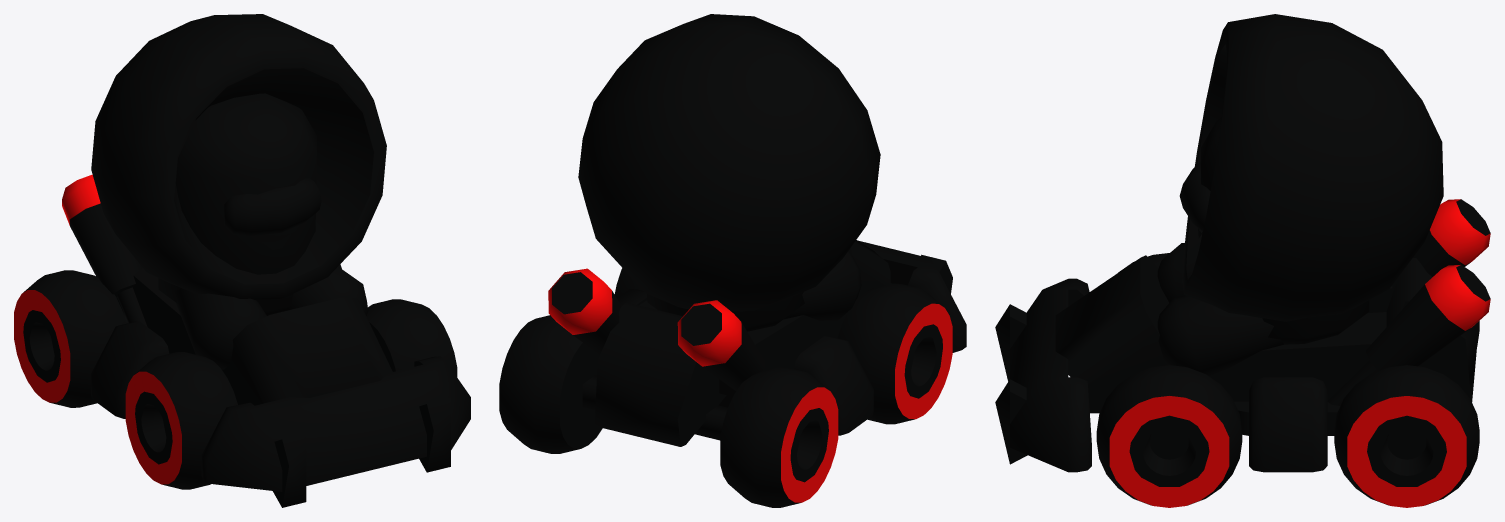
The model's file is kart-oozi.glb.
The picture shows the model from 3 angles, left to right: view 1: azimuth 30°, elevation 25°; view 2: azimuth 150°, elevation 25°; view 3: azimuth 270°, elevation 25°; orthographic projection. The views are drawn at different scales.
Parts seen in each view (by area): view 1: character, kart-oozi, wheel-back-right, wheel-front-right, wheel-front-left; view 2: character, kart-oozi, wheel-back-right, wheel-front-right, wheel-back-left; view 3: character, kart-oozi, wheel-front-left, wheel-back-left.
Part boxes in pixels (box(x1,y1,x2,y2)): character: box(91, 14, 386, 369); kart-oozi: box(62, 174, 470, 507); wheel-back-right: box(14, 270, 126, 407); wheel-front-right: box(125, 352, 237, 489); wheel-front-left: box(366, 299, 457, 376); character: box(578, 14, 880, 331); kart-oozi: box(548, 240, 966, 446); wheel-back-right: box(720, 367, 838, 507); wheel-front-right: box(838, 283, 952, 424); wheel-back-left: box(499, 315, 602, 453); character: box(1157, 14, 1443, 375); kart-oozi: box(995, 199, 1490, 472); wheel-front-left: box(1096, 365, 1242, 507); wheel-back-left: box(1334, 365, 1479, 507).
Bounding box in the file's own units: 0.9744 × 1.33 × 1.43.
1 material, 1 textured.
